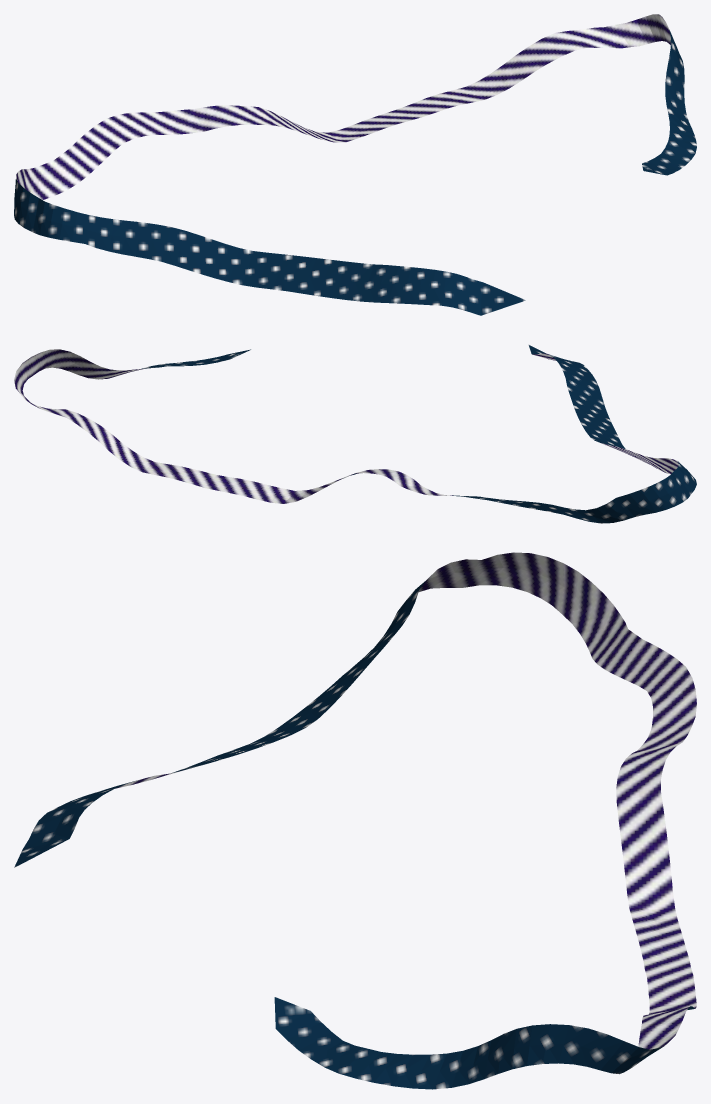
The picture shows the model from 3 angles, top to bottom: view 1: azimuth 30°, elevation 25°; view 2: azimuth 150°, elevation 25°; view 3: azimuth 270°, elevation 25°; orthographic projection. The views are drawn at different scales.
Visible parts, largest first — view 1: Mesh2; view 2: Mesh2; view 3: Mesh2.
Part boxes in pixels (x1,y1,x2,y2): Mesh2: (14, 14, 696, 315); Mesh2: (14, 344, 696, 523); Mesh2: (14, 552, 696, 1089).
Size of the model in its own units: 2.58 by 0.275 by 1.58.
2 materials, 2 textured.
